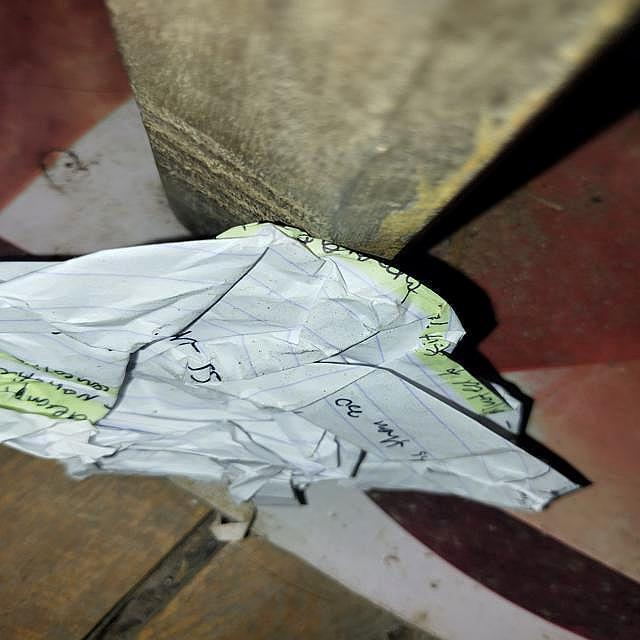Biodegradable: (1, 223, 640, 545)
